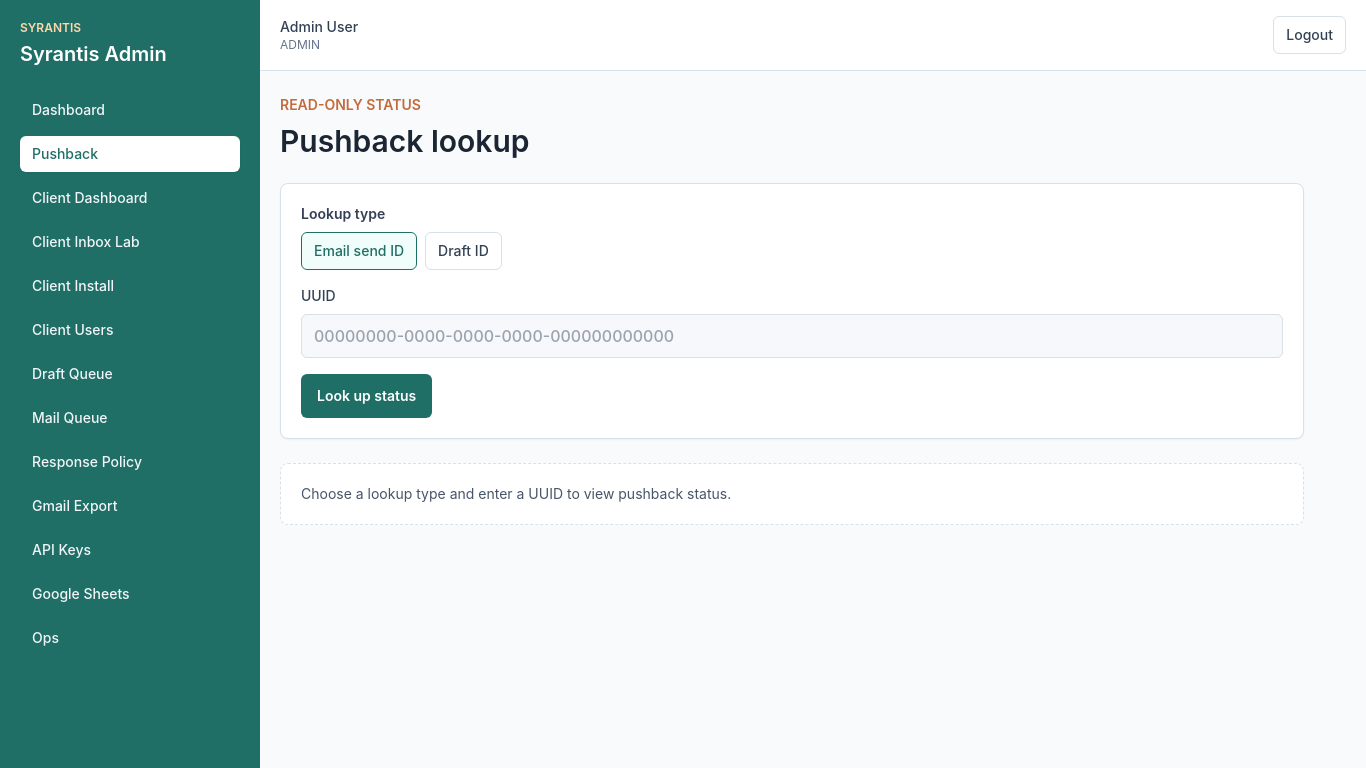
Test case: admin app › validates pushback UUID input
The width and height of the screenshot is (1366, 768).
Type "not-a-uuid" into the field labelled "UUID" at (792, 336), box [301, 314, 1283, 358]
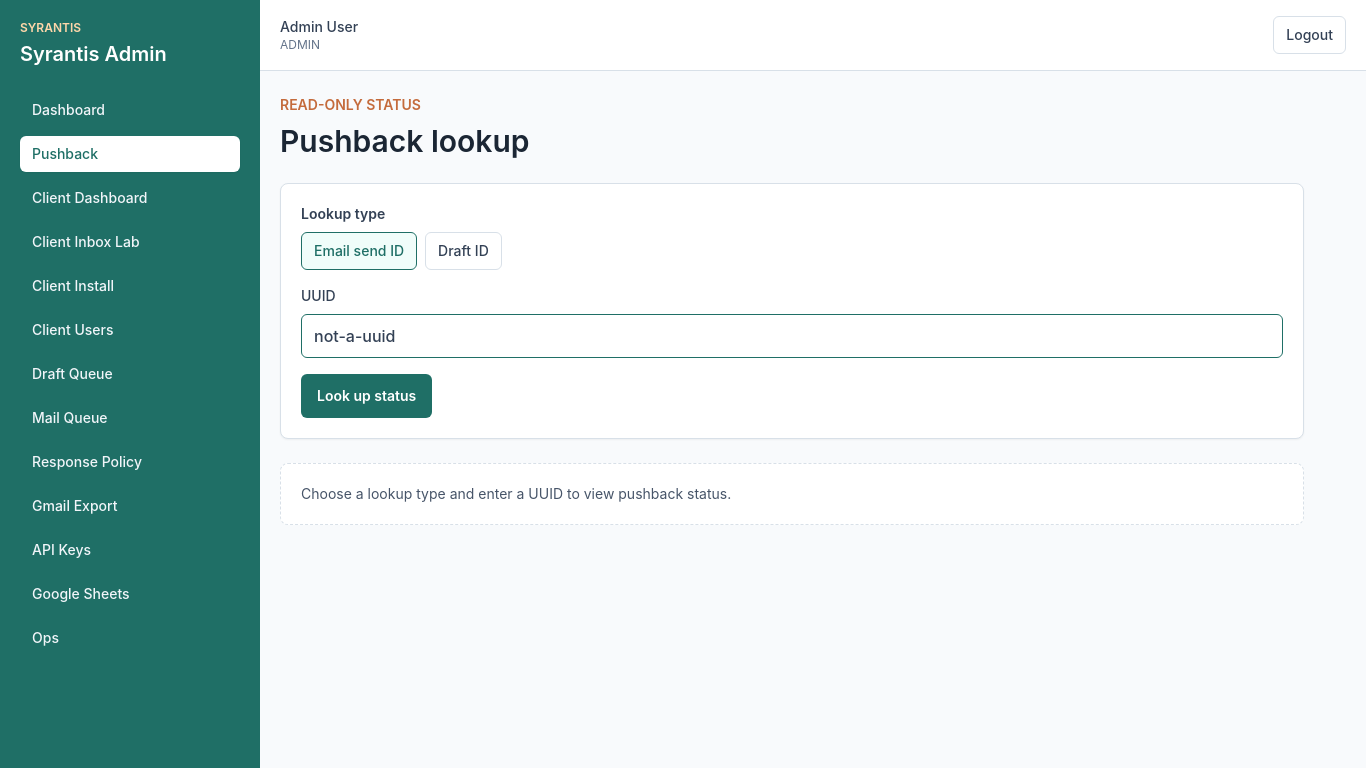
Click the button "Look up status" at (367, 396), box [301, 374, 432, 418]
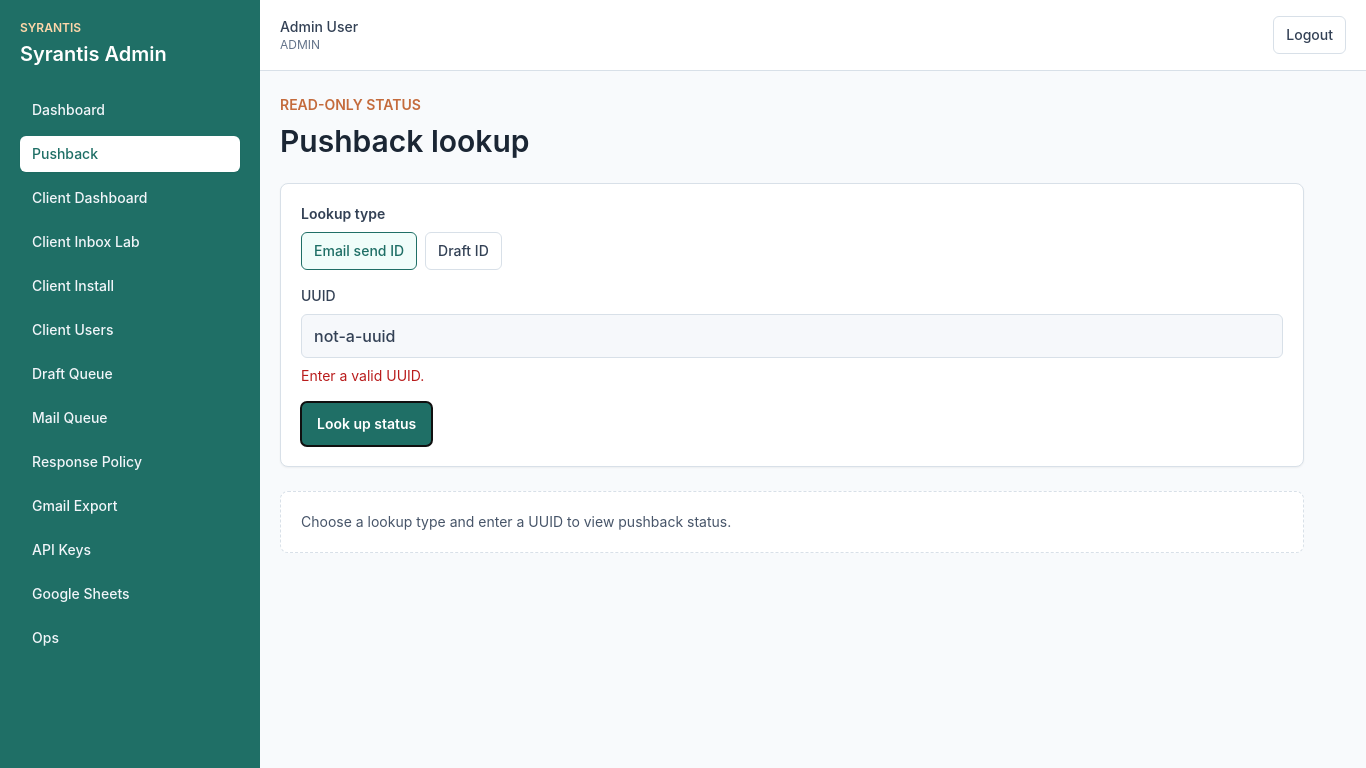
Expected: the text "Enter a valid UUID." is shown, [301, 367, 424, 384]
